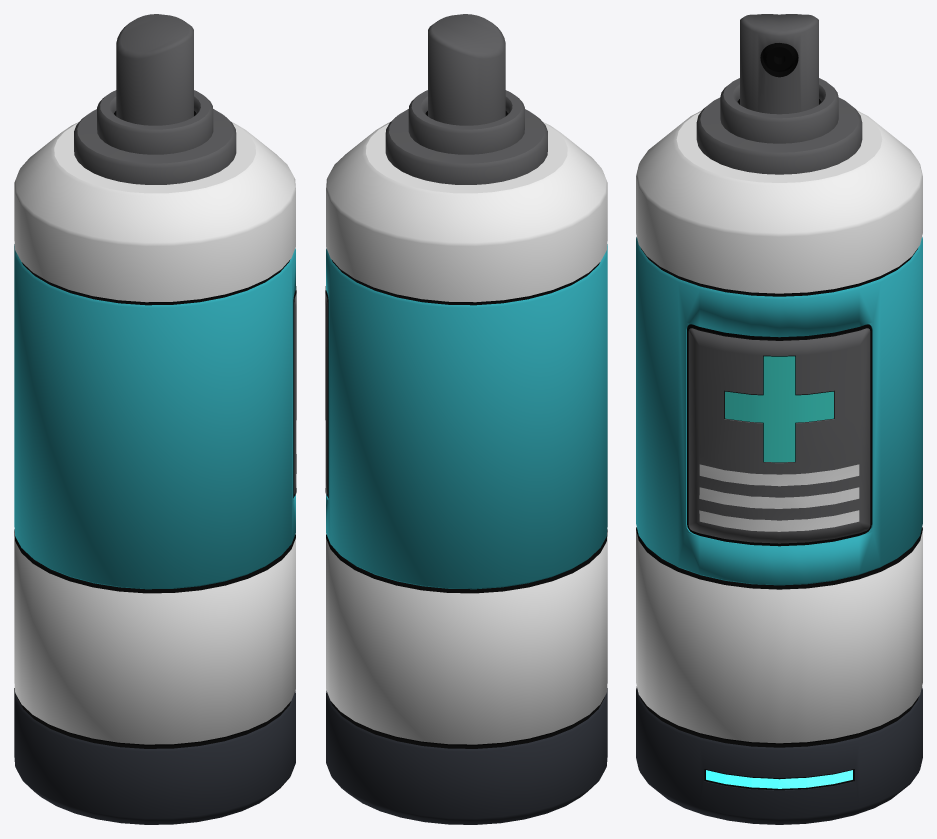
Rendered from SM_Medical_Spray.fbx.
3 views of the same model, side by side, from view 1: azimuth 30°, elevation 25°; view 2: azimuth 150°, elevation 25°; view 3: azimuth 270°, elevation 25° (orthographic).
Parts seen in each view (by area): view 1: SM_Medical_Spray; view 2: SM_Medical_Spray; view 3: SM_Medical_Spray.
Boxes of the visible parts, x1=… form: SM_Medical_Spray: x1=14, y1=14, x2=296, y2=824; SM_Medical_Spray: x1=325, y1=14, x2=607, y2=824; SM_Medical_Spray: x1=636, y1=14, x2=922, y2=824.
Size of the model in its own units: 4.01 by 11.58 by 4.
